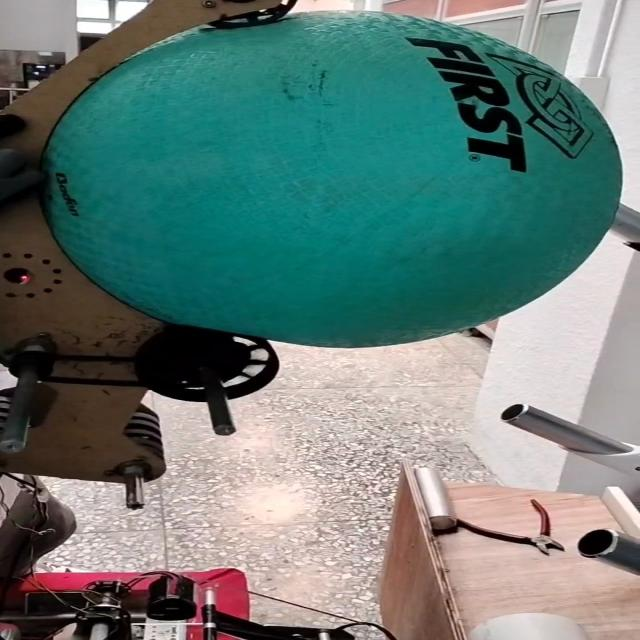ALGAE: (45, 12, 627, 349)
